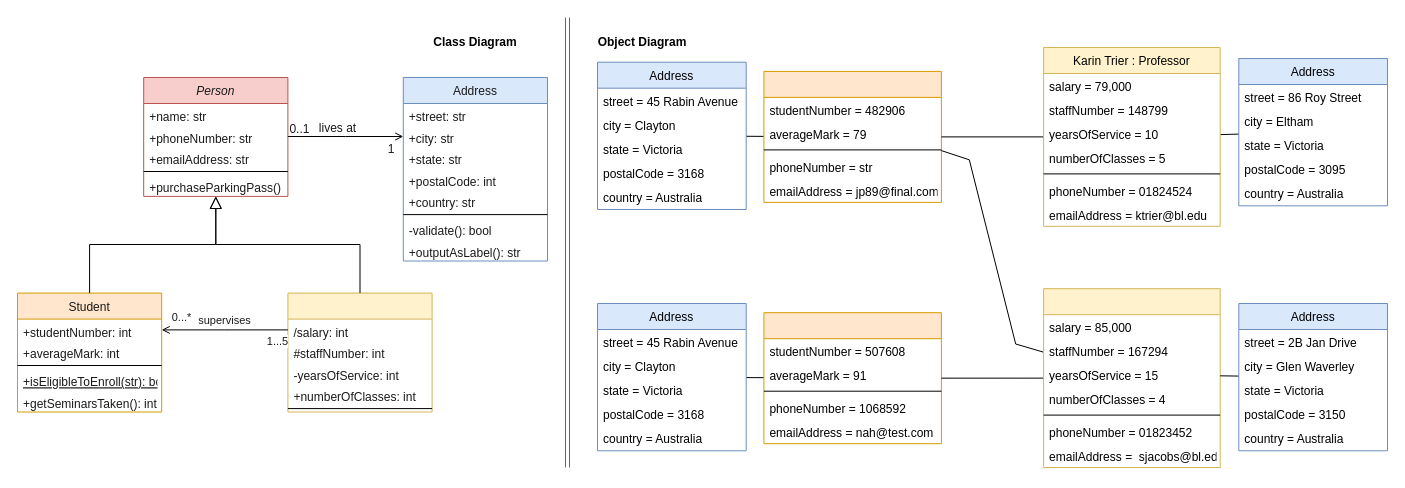
This 1405x488 diagram has some shape labels left out. Each missing label, with the box of its shape:
Jay Prezi : Student: (763, 70, 941, 202)
Professor: (287, 292, 432, 412)
Rua Dray : Student: (763, 312, 941, 444)
Stef Jacobs : Professor: (1043, 288, 1220, 468)
